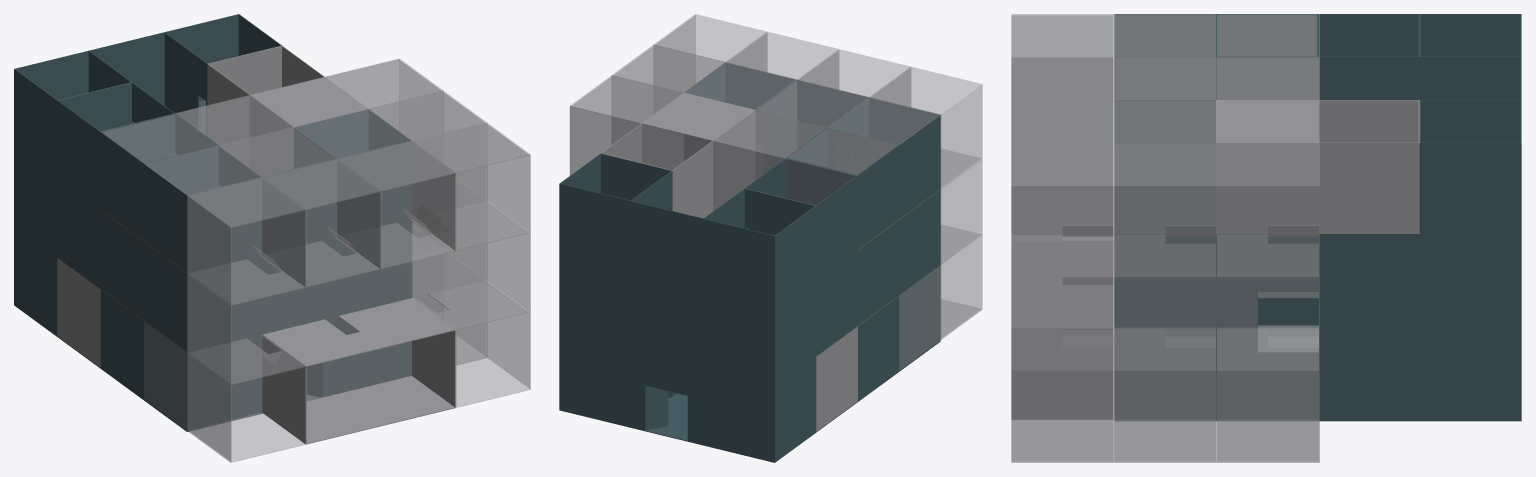
Rendered from 第十二组 2.glb.
3 renders of one model, left to right at view 1: azimuth 30°, elevation 25°; view 2: azimuth 150°, elevation 25°; view 3: azimuth 270°, elevation 25°, orthographic. The views are drawn at different scales.
Bounding box in the file's own units: 0.02 × 0.0151 × 0.025.
